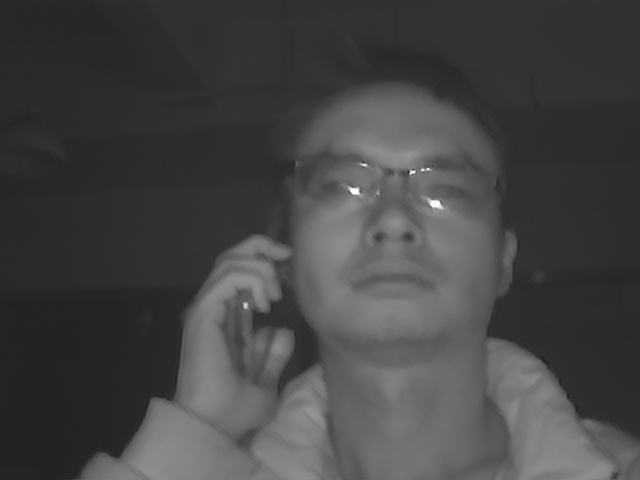hand: (164, 232, 302, 433)
